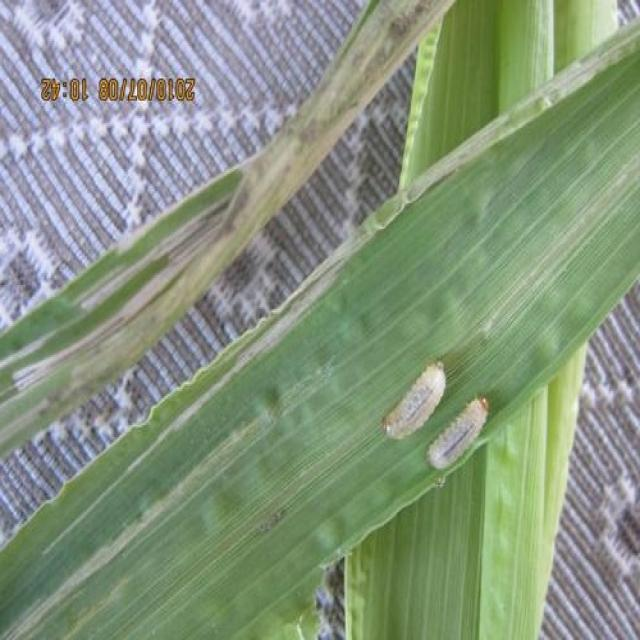army worm: (381, 356, 450, 445), (426, 396, 490, 476)
